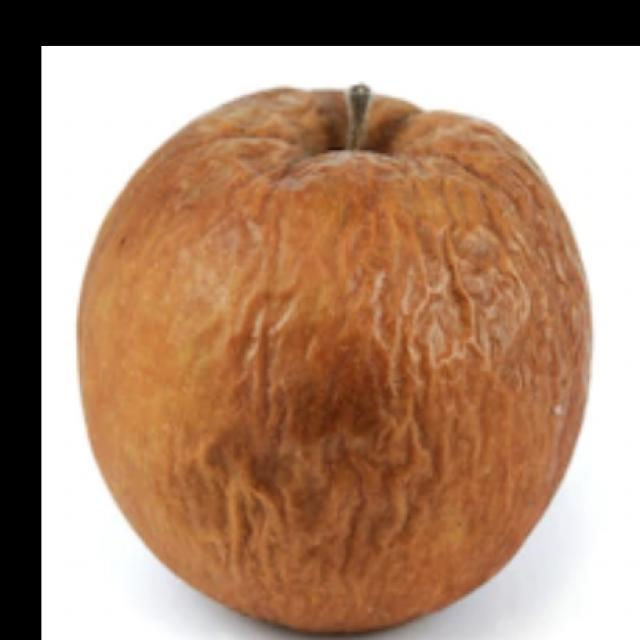Rotten: (105, 75, 603, 640)
